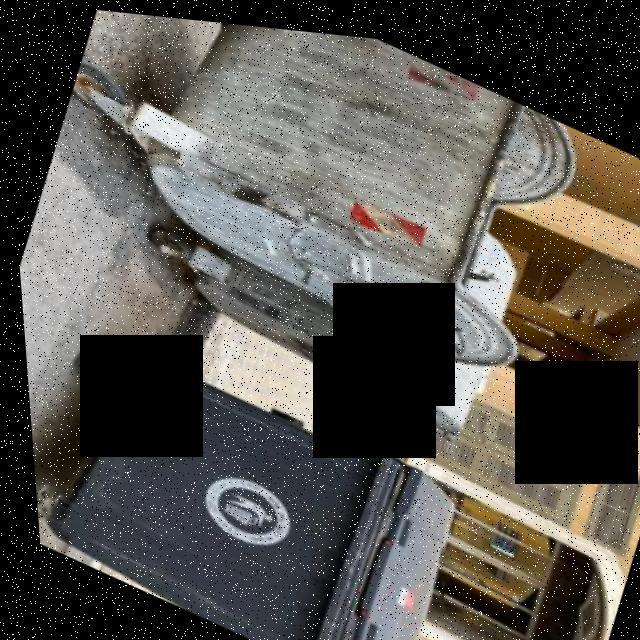bin: (17, 285, 483, 640)
